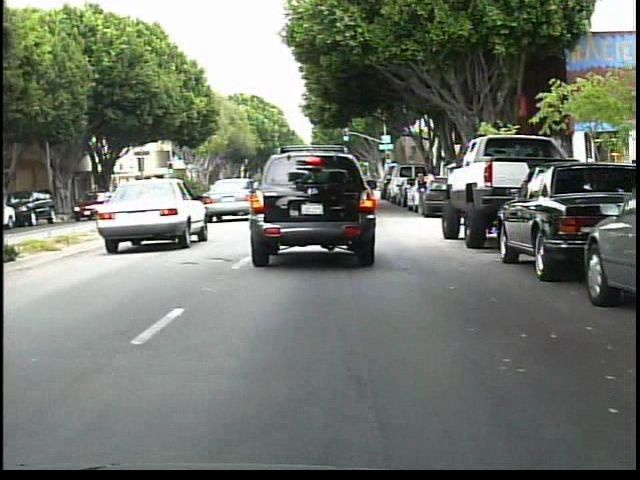person: (414, 171, 429, 219), (422, 166, 437, 208)
